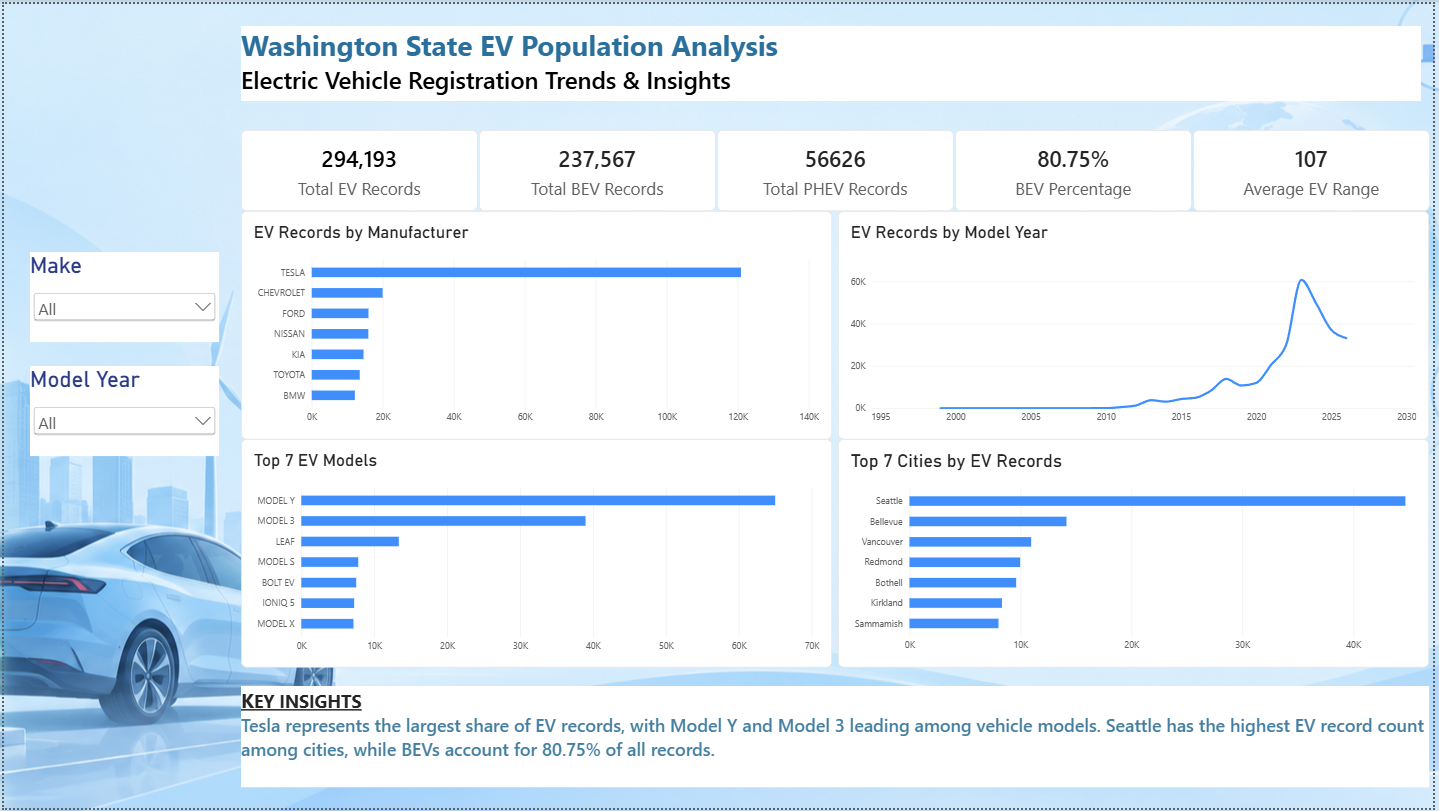

The dashboard page shown, as its layout file describes it:
{"tool":"powerbi","page":{"name":"Page 1","canvas":[1920,1080],"ordinal":0},"visuals":[{"type":"card","fields":{"Values":["CountNonNull(ev_population_analysis ev_population.DOL Vehicle ID)"]},"box":[4.7,231.9,380,100],"z":0},{"type":"card","fields":{"Values":["CountNonNull(ev_population_analysis ev_population.DOL Vehicle ID)"]},"box":[387.2,231.9,380,100],"z":1000},{"type":"card","fields":{"Values":["ev_population_analysis ev_population.PHEV Count"]},"box":[769.6,231.9,380,100],"z":2000},{"type":"card","fields":{"Values":["ev_population_analysis ev_population.BEV Percentage"]},"box":[1152,231.9,380,100],"z":3000},{"type":"clusteredBarChart","title":"EV Records by Manufacturer","fields":{"Category":["ev_population_analysis ev_population.Make"],"Y":["CountNonNull(ev_population_analysis ev_population.DOL Vehicle ID)"]},"box":[5.4,331.3,950,280],"z":4000},{"type":"lineChart","title":"EV Records by Model Year","fields":{"Category":["ev_population_analysis ev_population.Model Year"],"Y":["CountNonNull(ev_population_analysis ev_population.DOL Vehicle ID)"]},"box":[965.4,331.3,950,280],"z":5000},{"type":"clusteredBarChart","title":"Top 7 EV Models","fields":{"Category":["ev_population_analysis ev_population.Model"],"Y":["CountNonNull(ev_population_analysis ev_population.DOL Vehicle ID)"]},"box":[5.2,611.2,950,280.5],"z":6000},{"type":"slicer","title":"Make","fields":{"Values":["ev_population_analysis ev_population.Make"]},"box":[451.3,112.5,280,100],"z":7000},{"type":"slicer","title":"Model Year","fields":{"Values":["ev_population_analysis ev_population.Model Year"]},"box":[1188.2,112.5,280,100],"z":8000},{"type":"card","title":"Average EV Range (Miles)","fields":{"Values":["ev_population_analysis ev_population.Average EV Range"]},"box":[1534.4,231.9,380,100],"z":9000},{"type":"textbox","box":[593.2,0,733.5,62.7],"z":10000},{"type":"textbox","box":[608.1,62.7,742.2,62.7],"z":11000},{"type":"clusteredBarChart","title":"Top 7 Cities by EV Records","fields":{"Category":["ev_population_analysis ev_population.City"],"Y":["CountNonNull(ev_population_analysis ev_population.DOL Vehicle ID)"]},"box":[965.2,611.8,950,280],"z":12000},{"type":"textbox","box":[57.5,916.4,1803.3,135.9],"z":13000}]}

Visuals, with their boxes in screenshot pixels (x1, y1, x2, y2), scaled from the page's 1920x1080 canvas onto the 1439x811 screenshot:
card - CountNonNull(ev_population_analysis ev_population.DOL Vehicle ID): <region>4, 174, 288, 249</region>
card - CountNonNull(ev_population_analysis ev_population.DOL Vehicle ID): <region>290, 174, 575, 249</region>
card - ev_population_analysis ev_population.PHEV Count: <region>577, 174, 862, 249</region>
card - ev_population_analysis ev_population.BEV Percentage: <region>863, 174, 1148, 249</region>
"EV Records by Manufacturer" clusteredBarChart: <region>4, 249, 716, 459</region>
"EV Records by Model Year" lineChart: <region>724, 249, 1436, 459</region>
"Top 7 EV Models" clusteredBarChart: <region>4, 459, 716, 670</region>
"Make" slicer: <region>338, 84, 548, 160</region>
"Model Year" slicer: <region>891, 84, 1100, 160</region>
"Average EV Range (Miles)" card: <region>1150, 174, 1435, 249</region>
textbox: <region>445, 0, 994, 47</region>
textbox: <region>456, 47, 1012, 94</region>
"Top 7 Cities by EV Records" clusteredBarChart: <region>723, 459, 1435, 670</region>
textbox: <region>43, 688, 1395, 790</region>
